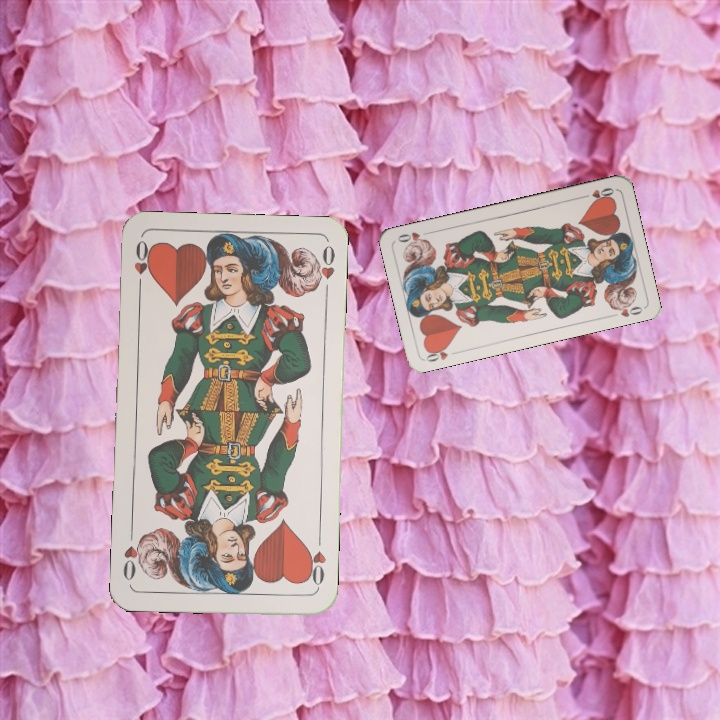HO: (303, 531, 328, 590), (130, 236, 153, 295), (421, 342, 461, 364), (577, 183, 617, 204)
